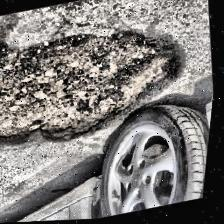pothole: (1, 7, 200, 159)
